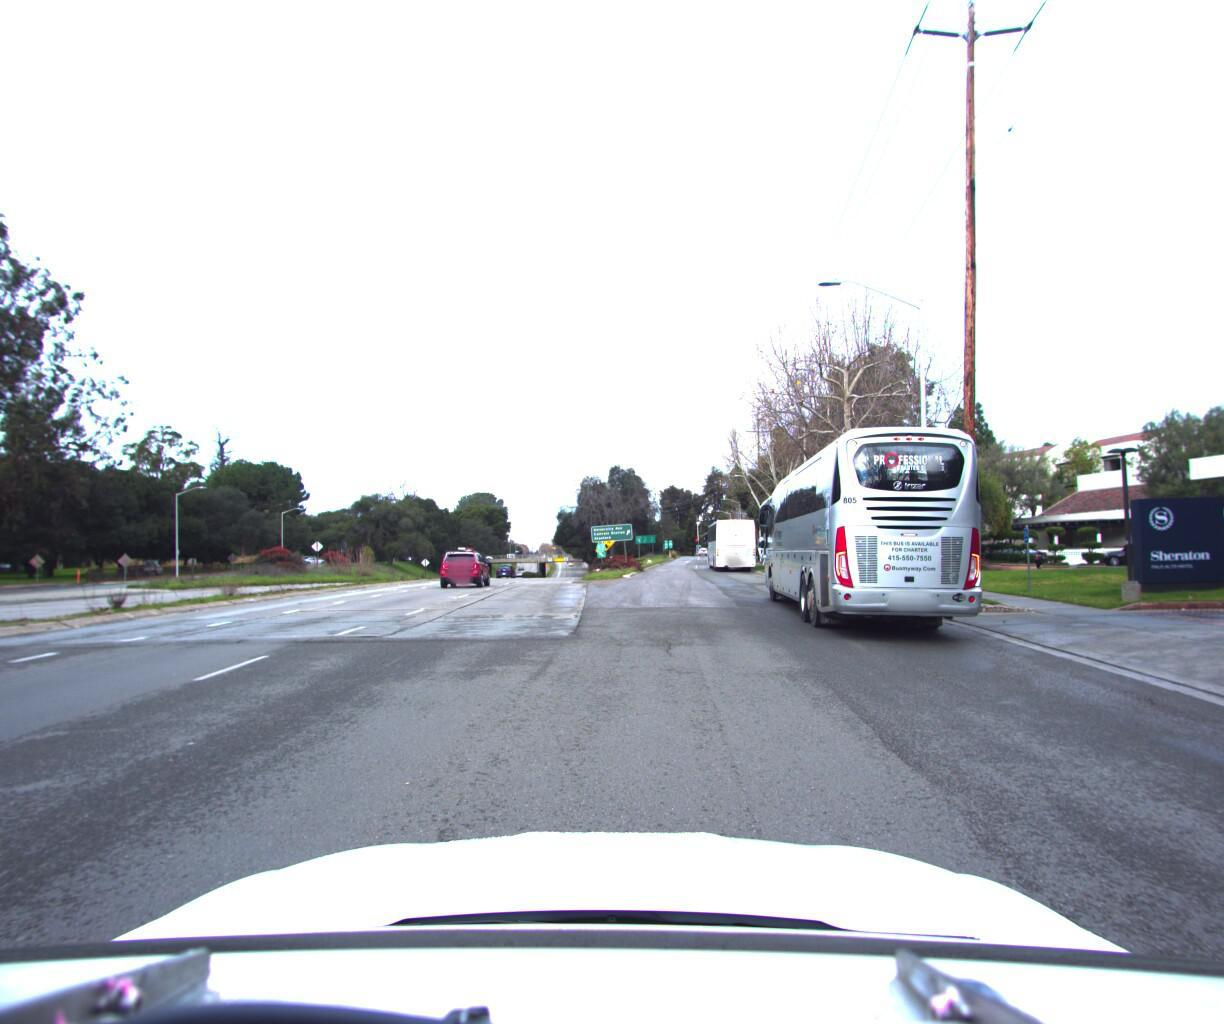bus: (755, 393, 1009, 633), (705, 509, 760, 563)
car: (437, 542, 492, 582), (1093, 533, 1174, 558), (437, 539, 481, 576), (497, 557, 516, 573)
